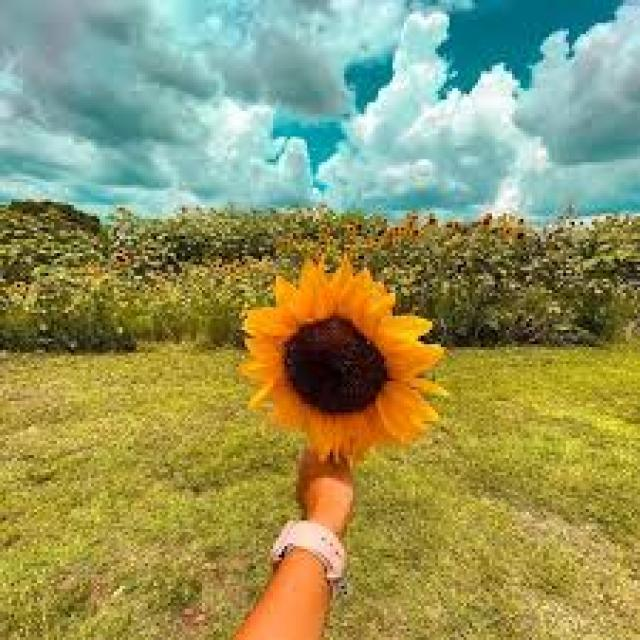sunflower: (236, 254, 447, 464), (112, 252, 132, 267)
